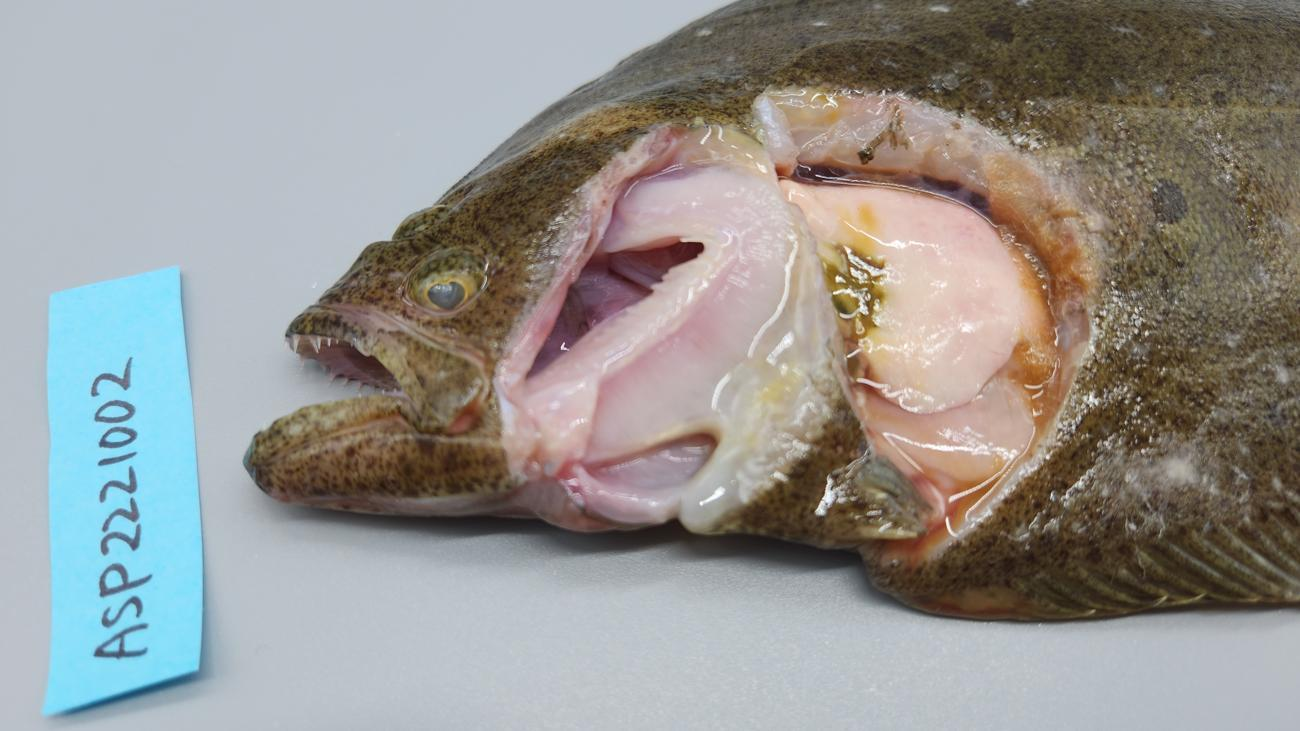SPGIP: (590, 162, 796, 448)
